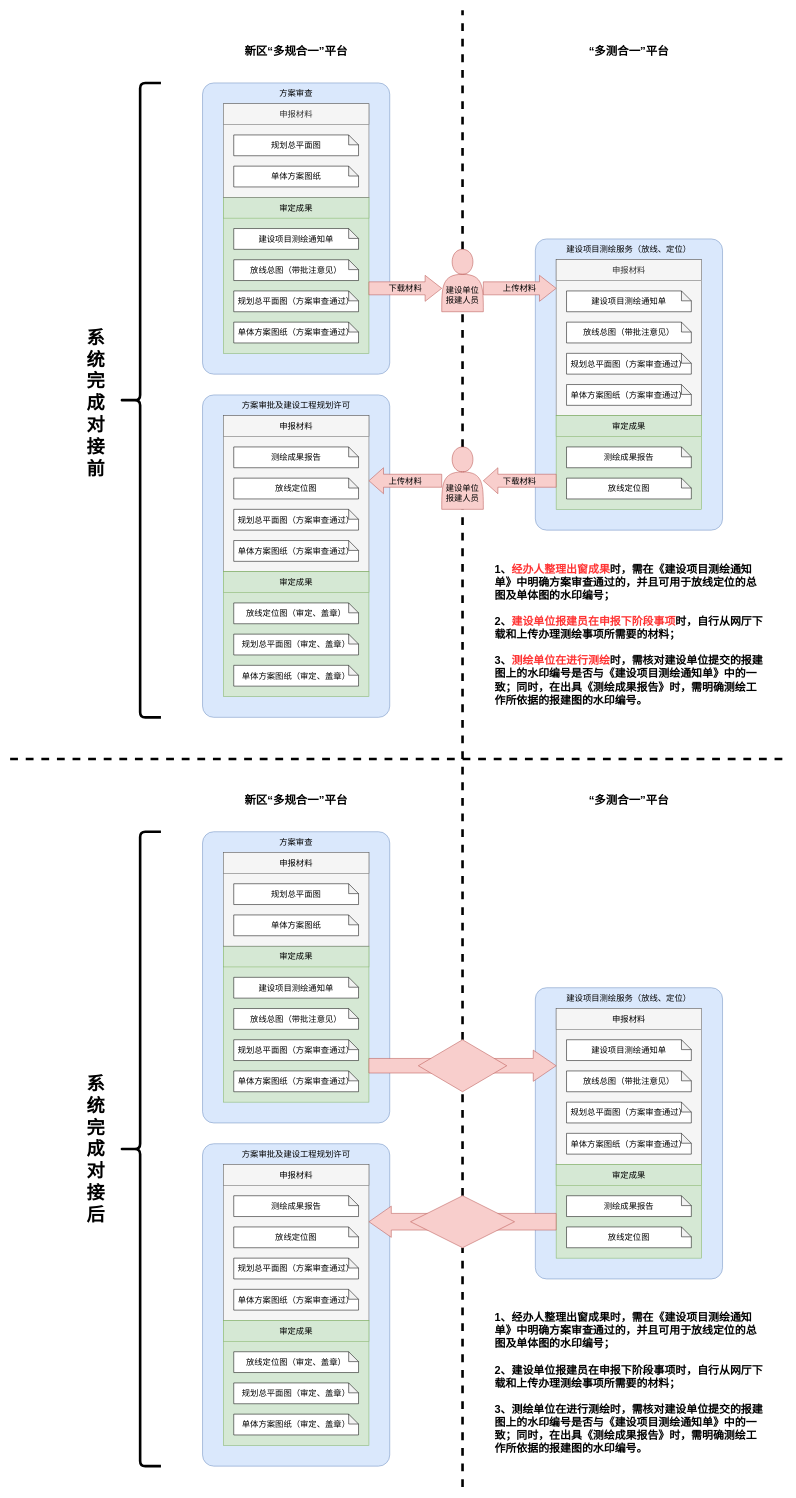
Image size: 796x1498. Some labels were removed from this diagram. Each missing label, with the centre of its shape:
"调取多测系统 内的审定成果" goes at point (462, 1221).
"调取多规系统 内的审定成果" goes at point (462, 1065).
